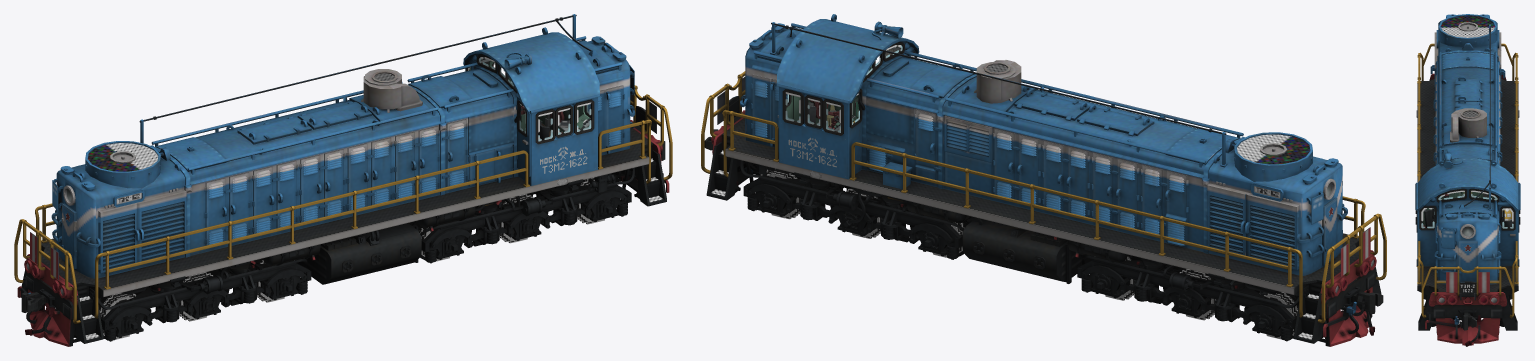
Rendered from mvp_ir_tem2.obj.
The picture shows the model from 3 angles, left to right: view 1: azimuth 30°, elevation 25°; view 2: azimuth 150°, elevation 25°; view 3: azimuth 270°, elevation 25°; orthographic projection. The views are drawn at different scales.
Visible parts, largest first — view 1: FRAME, BOGEY_FRONT, BOGEY_REAR, INTERIOR_1_LCG_IL, DOOR_2_TOGGLE_CG_CD2; view 2: FRAME, BOGEY_FRONT, BOGEY_REAR, INTERIOR_1_LCG_IL; view 3: FRAME, DOOR_1_TOGGLE_CG_CD1, INTERIOR_1_LCG_IL, COUPLER_ENGAGED_REAR_2_TOGGLE, BOGEY_REAR, HEADLIGHT_2_0XFFF0CC_FULLBRIGHT_LCG_RHL, SIGN.
Part boxes in pixels (x1,y1,x2,y2): FRAME: [14, 14, 672, 346]; BOGEY_FRONT: [98, 258, 311, 341]; BOGEY_REAR: [409, 167, 634, 263]; INTERIOR_1_LCG_IL: [468, 57, 590, 139]; DOOR_2_TOGGLE_CG_CD2: [514, 97, 530, 176]; FRAME: [701, 14, 1386, 346]; BOGEY_FRONT: [1077, 255, 1299, 341]; BOGEY_REAR: [740, 160, 973, 259]; INTERIOR_1_LCG_IL: [793, 45, 912, 131]; FRAME: [1415, 14, 1520, 345]; DOOR_1_TOGGLE_CG_CD1: [1498, 205, 1517, 259]; INTERIOR_1_LCG_IL: [1421, 190, 1513, 228]; COUPLER_ENGAGED_REAR_2_TOGGLE: [1425, 320, 1461, 329]; BOGEY_REAR: [1423, 294, 1512, 326]; HEADLIGHT_2_0XFFF0CC_FULLBRIGHT_LCG_RHL: [1462, 226, 1473, 237]; SIGN: [1460, 245, 1474, 292].
Size of the model in its own units: 18.63 by 5.12 by 3.45.
